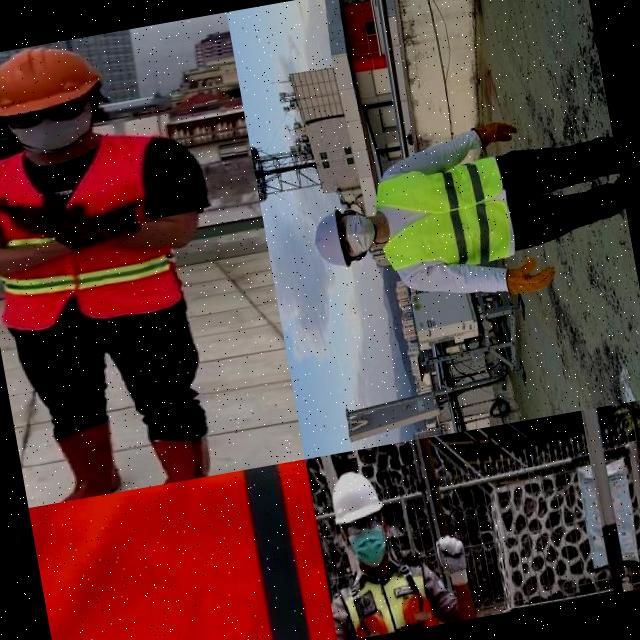boots: (39, 419, 124, 504), (148, 423, 228, 485)
helmet: (0, 34, 108, 121), (322, 463, 390, 533), (306, 203, 356, 281)
vest: (28, 458, 337, 640), (0, 130, 185, 338), (367, 150, 522, 280), (331, 553, 454, 640)
